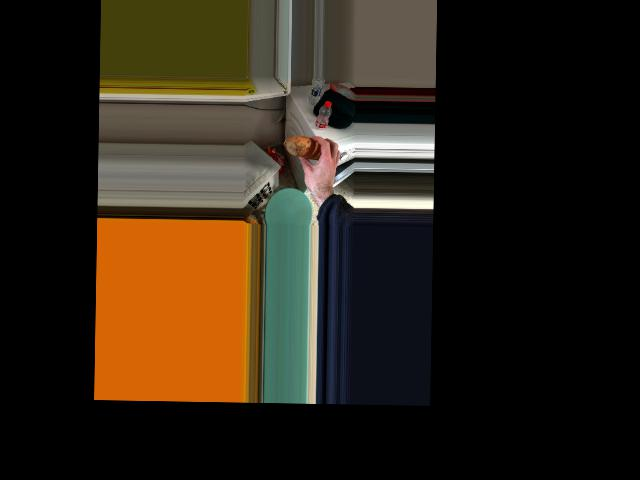sweet_potato: (292, 134, 325, 165)
